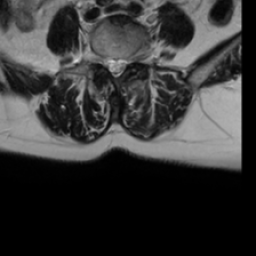CCS_normal: (112, 53, 118, 82)
LFS_normal: (126, 46, 134, 71)
LLS_normal: (118, 50, 125, 80)
RFS_normal: (97, 48, 105, 73)
RLS_normal: (105, 50, 112, 78)
